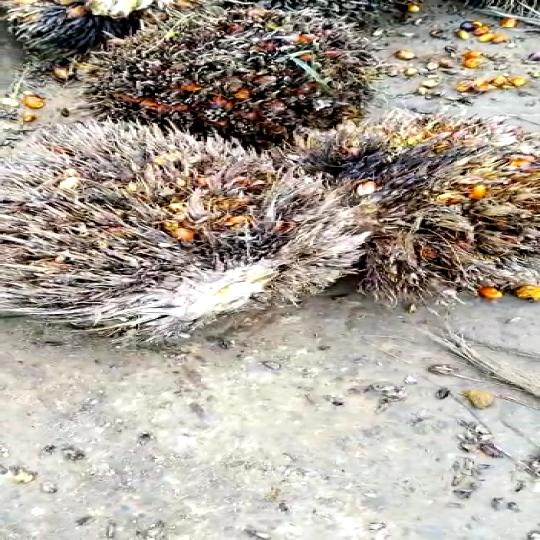terlalu masak: (0, 128, 345, 338), (287, 130, 540, 289), (71, 6, 364, 131)
